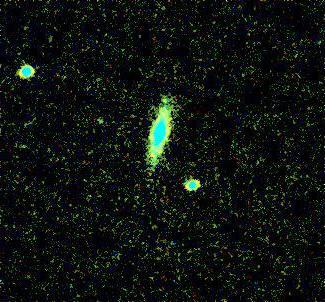star: (148, 84, 178, 114)
